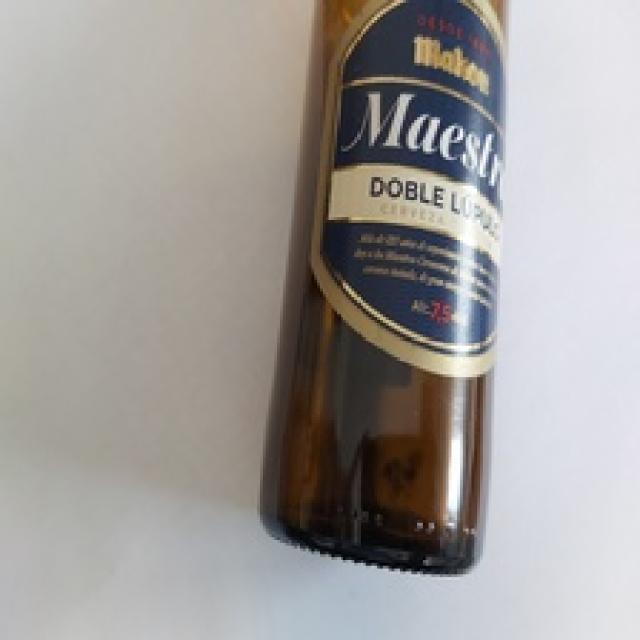Glass: (257, 0, 507, 576)
